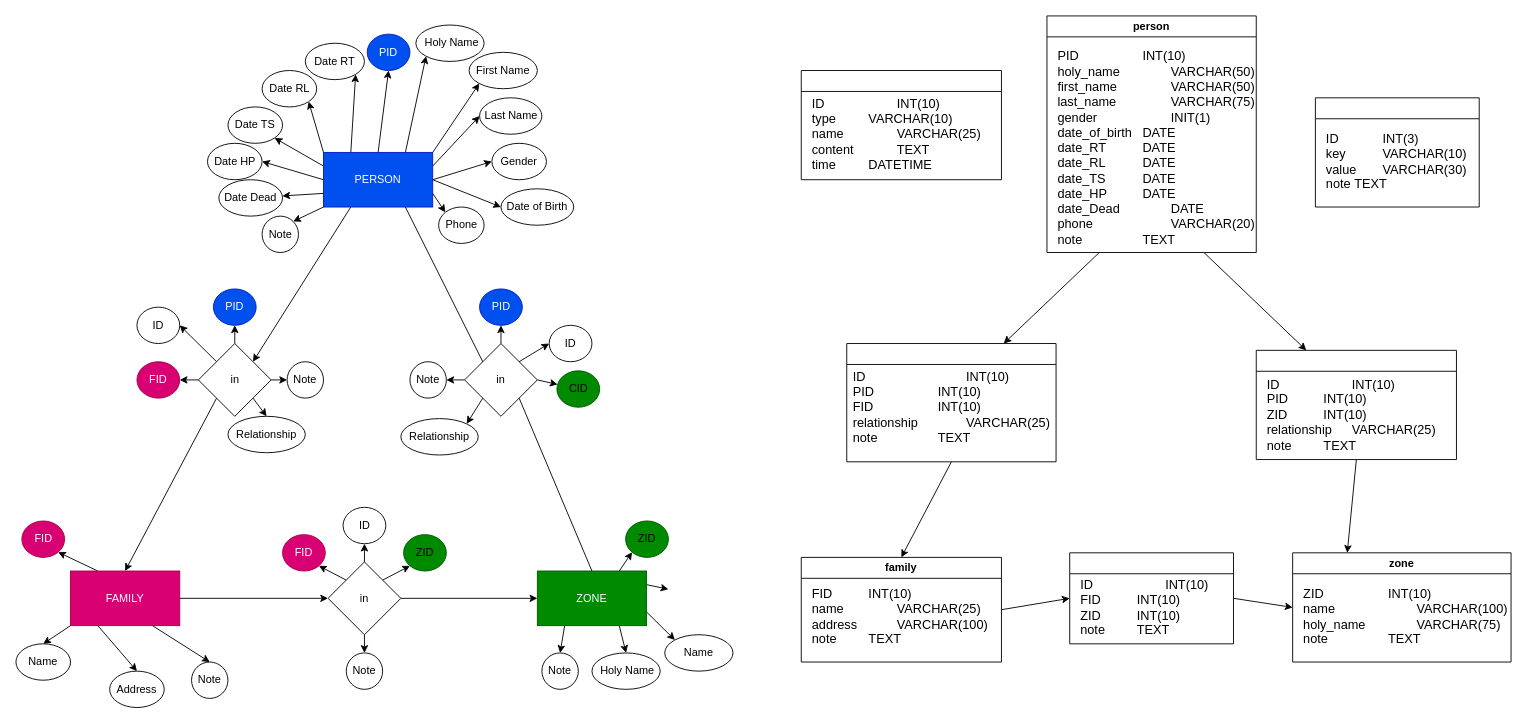
The diagram is 1527 pixels wide and 723 high, and some of its shapes have lost their labels. The box of each missing label's shape, as (x1, y1, x2, y2) in pixels:
family_zone: (1069, 552, 1234, 644)
history: (800, 70, 1001, 180)
options: (1314, 97, 1479, 207)
person_family: (846, 343, 1056, 462)
person_zone: (1255, 349, 1456, 460)
